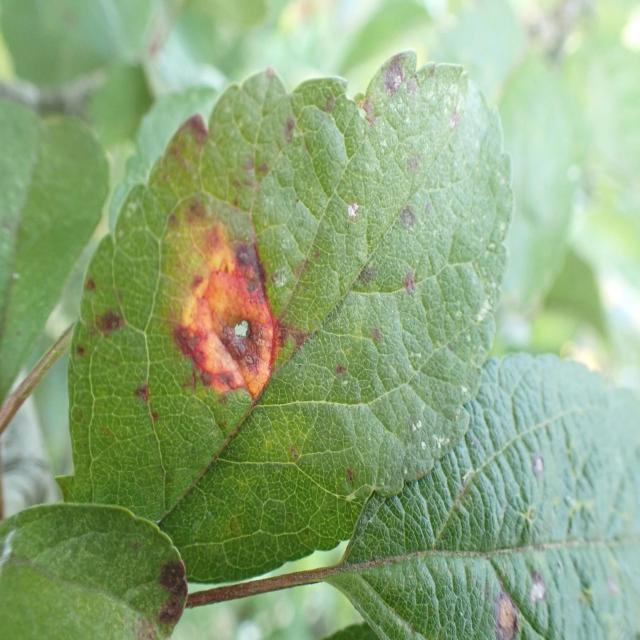rust: (54, 49, 515, 586)
